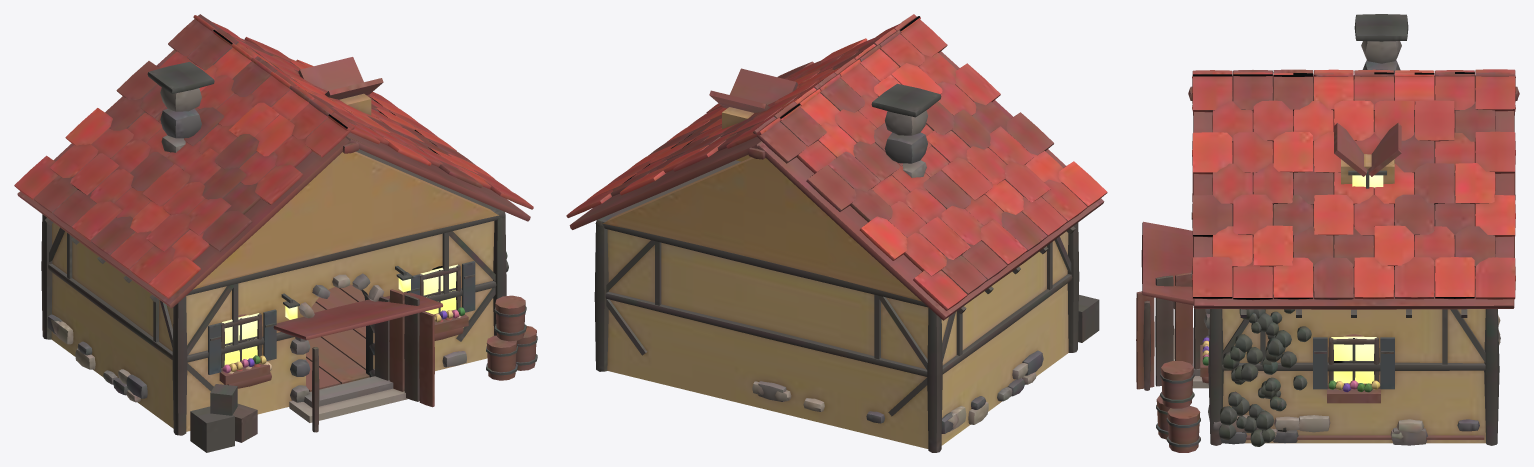
File: house_b.glb
3 views of the same model, side by side, from view 1: azimuth 30°, elevation 25°; view 2: azimuth 150°, elevation 25°; view 3: azimuth 270°, elevation 25° (orthographic). The views are drawn at different scales.
Visible parts, largest first — view 1: main, glow; view 2: main; view 3: main, glow.
Part boxes in pixels (box(x1,y1,x2,y2)): main: box(14, 14, 537, 452); glow: box(222, 264, 457, 365); main: box(566, 14, 1107, 452); main: box(1136, 14, 1519, 452); glow: box(1331, 175, 1383, 383).
Bounding box in the file's own units: 10.35 × 7.65 × 8.91.
2 materials, 1 textured.
